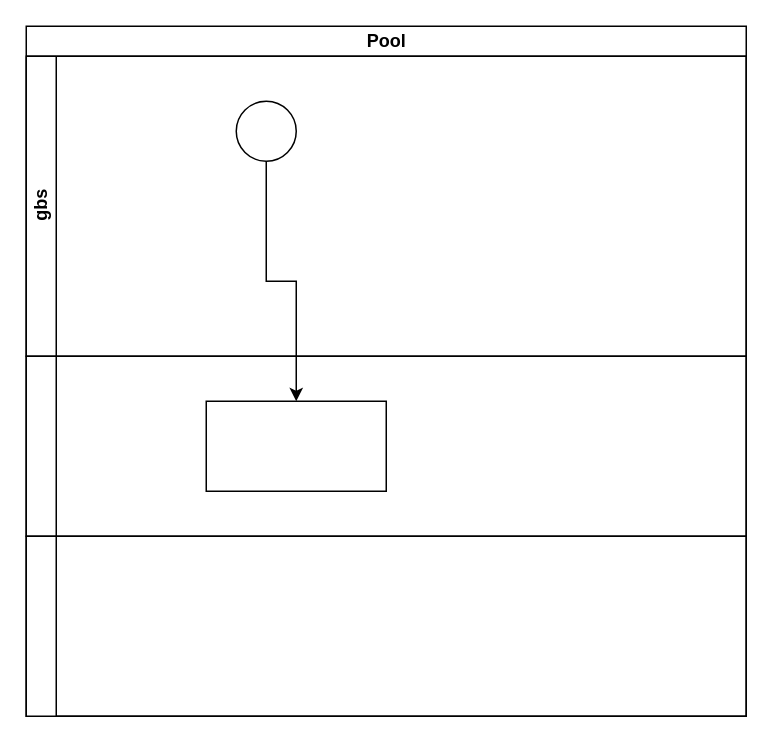
Image size: 773x743. Some labels were removed from this diagram. The box of each missing label's shape, as (x1, y1, x2, y2) in pixels:
Lane 3: (25, 535, 746, 716)
ltk: (25, 355, 746, 536)
